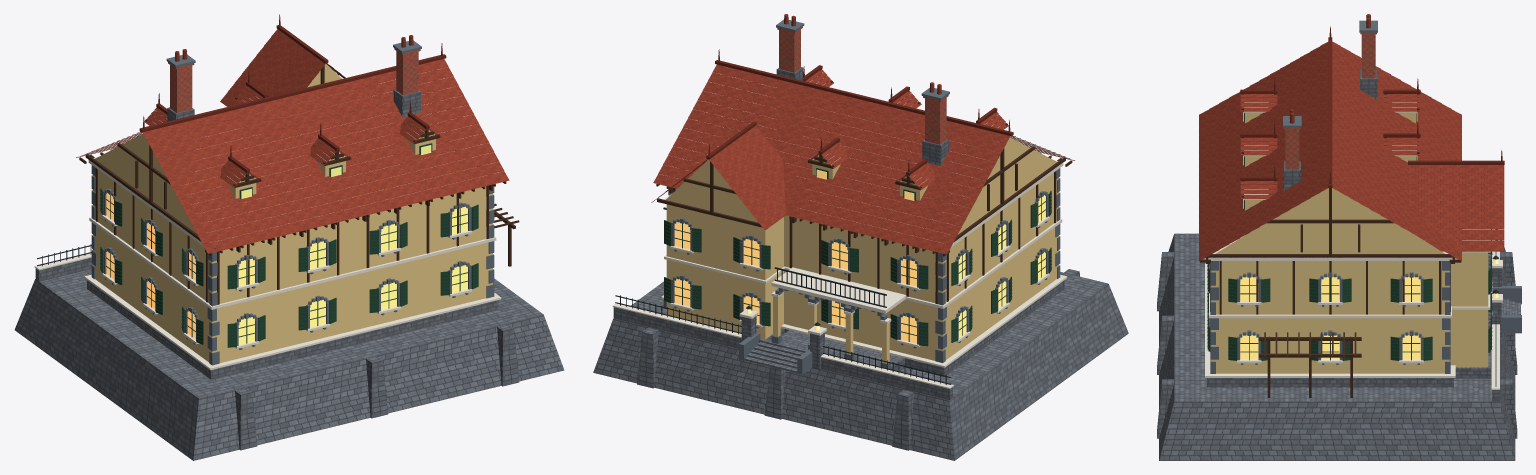
File: fv_cg_02_co_giang_hem_05_yellow_normandy_villa.glb
3 views of the same model, side by side, from view 1: azimuth 30°, elevation 25°; view 2: azimuth 150°, elevation 25°; view 3: azimuth 270°, elevation 25° (orthographic). The views are drawn at different scales.
Parts seen in each view (by area): view 1: Foundation_Skirt_Neg3p5m, Normandy_Brittany_Layered_Roof, Villa_Stucco_Walls, Molded_Cornices_And_Sills, PineGreen_Louvered_Shutters, Stone_Quoins_And_Arches, Exposed_Timber_Trusses_And_Rafters, Warm_Night_Windows_20h00_Blend, Roof_Ridges_Caps_And_Finials, Brick_Chimney_Stacks; view 2: Foundation_Skirt_Neg3p5m, Normandy_Brittany_Layered_Roof, Villa_Stucco_Walls, Molded_Cornices_And_Sills, Stone_Quoins_And_Arches, PineGreen_Louvered_Shutters, Exposed_Timber_Trusses_And_Rafters, Warm_Night_Windows_20h00_Blend, Roof_Ridges_Caps_And_Finials, Wrought_Iron_Balustrades_And_Gate, Brick_Chimney_Stacks; view 3: Normandy_Brittany_Layered_Roof, Foundation_Skirt_Neg3p5m, Villa_Stucco_Walls, Molded_Cornices_And_Sills, Exposed_Timber_Trusses_And_Rafters, Stone_Quoins_And_Arches, PineGreen_Louvered_Shutters, Warm_Night_Windows_20h00_Blend, Roof_Ridges_Caps_And_Finials, Brick_Chimney_Stacks.
Part boxes in pixels (x1=…): Foundation_Skirt_Neg3p5m: x1=14, y1=89, x2=564, y2=460; Normandy_Brittany_Layered_Roof: x1=143, y1=29, x2=509, y2=253; Villa_Stucco_Walls: x1=92, y1=64, x2=492, y2=362; Molded_Cornices_And_Sills: x1=34, y1=95, x2=501, y2=370; PineGreen_Louvered_Shutters: x1=100, y1=143, x2=478, y2=347; Stone_Quoins_And_Arches: x1=91, y1=41, x2=494, y2=365; Exposed_Timber_Trusses_And_Rafters: x1=79, y1=66, x2=519, y2=304; Warm_Night_Windows_20h00_Blend: x1=106, y1=145, x2=467, y2=344; Roof_Ridges_Caps_And_Finials: x1=76, y1=14, x2=446, y2=180; Brick_Chimney_Stacks: x1=168, y1=48, x2=420, y2=112; Foundation_Skirt_Neg3p5m: x1=593, y1=67, x2=1128, y2=460; Normandy_Brittany_Layered_Roof: x1=653, y1=14, x2=1010, y2=254; Villa_Stucco_Walls: x1=666, y1=94, x2=1059, y2=363; Molded_Cornices_And_Sills: x1=612, y1=80, x2=1067, y2=388; Stone_Quoins_And_Arches: x1=668, y1=19, x2=1060, y2=374; PineGreen_Louvered_Shutters: x1=664, y1=168, x2=1051, y2=346; Exposed_Timber_Trusses_And_Rafters: x1=656, y1=69, x2=1072, y2=303; Warm_Night_Windows_20h00_Blend: x1=674, y1=169, x2=1045, y2=343; Roof_Ridges_Caps_And_Finials: x1=651, y1=49, x2=1074, y2=202; Wrought_Iron_Balustrades_And_Gate: x1=615, y1=267, x2=951, y2=384; Brick_Chimney_Stacks: x1=777, y1=26, x2=948, y2=144; Normandy_Brittany_Layered_Roof: x1=1199, y1=14, x2=1504, y2=260; Foundation_Skirt_Neg3p5m: x1=1157, y1=70, x2=1520, y2=460; Villa_Stucco_Walls: x1=1211, y1=112, x2=1488, y2=373; Molded_Cornices_And_Sills: x1=1205, y1=102, x2=1502, y2=389; Exposed_Timber_Trusses_And_Rafters: x1=1199, y1=94, x2=1497, y2=397; Stone_Quoins_And_Arches: x1=1208, y1=20, x2=1521, y2=373; PineGreen_Louvered_Shutters: x1=1207, y1=112, x2=1492, y2=360; Warm_Night_Windows_20h00_Blend: x1=1240, y1=112, x2=1498, y2=359; Roof_Ridges_Caps_And_Finials: x1=1240, y1=26, x2=1504, y2=187; Brick_Chimney_Stacks: x1=1284, y1=32, x2=1376, y2=169.
Size of the model in its own units: 25.93 by 20.3 by 21.72.
Materials: 12 (3 with a texture image).
